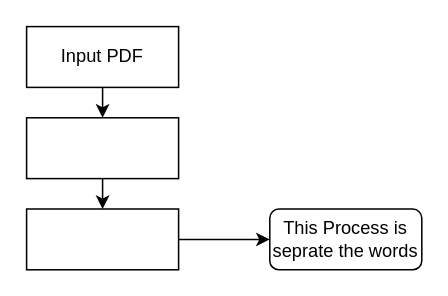
Some shapes in this 448 by 296 pixel diagram are drawn without their labels. The box of each missing label's shape, as (x1, y1, x2, y2) in pixels:
Data Extraction: (25, 116, 179, 179)
Lingustic Analysis: (25, 207, 179, 270)
